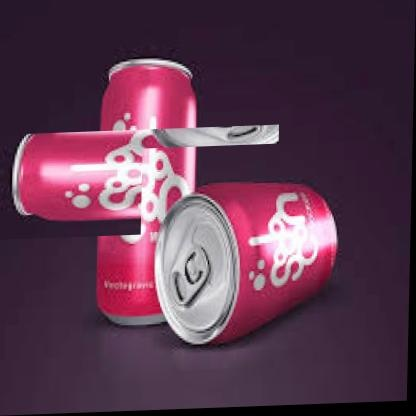trash: (12, 59, 336, 344), (155, 183, 336, 344), (97, 201, 163, 324), (101, 59, 195, 130)
